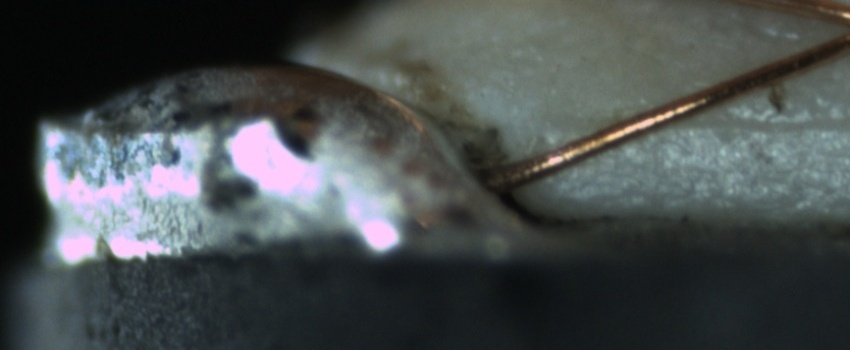DL: (610, 88, 850, 156)
